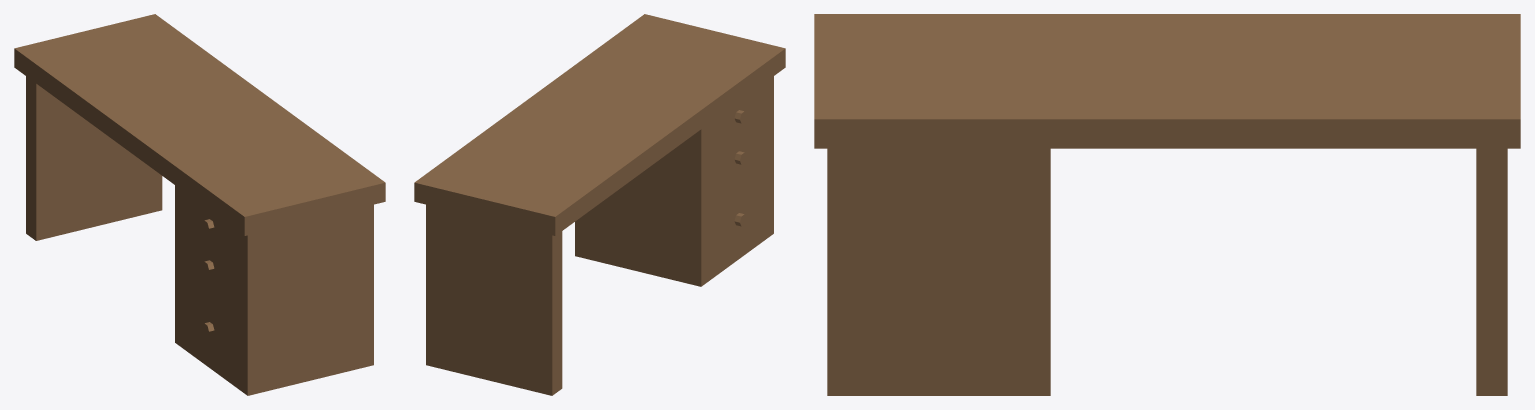
The model's file is ss-desk.lod1.glb.
3 views of the same model, side by side, from view 1: azimuth 30°, elevation 25°; view 2: azimuth 150°, elevation 25°; view 3: azimuth 270°, elevation 25° (orthographic). The views are drawn at different scales.
Parts seen in each view (by area): view 1: Mesh34_Color_M00_0; view 2: Mesh34_Color_M00_0; view 3: Mesh34_Color_M00_0.
Part boxes in pixels (<box>): Mesh34_Color_M00_0: <box>14,14,385,395</box>; Mesh34_Color_M00_0: <box>414,14,785,395</box>; Mesh34_Color_M00_0: <box>814,14,1520,395</box>.
Size of the model in its own units: 0.7269 by 0.9063 by 2.06.
